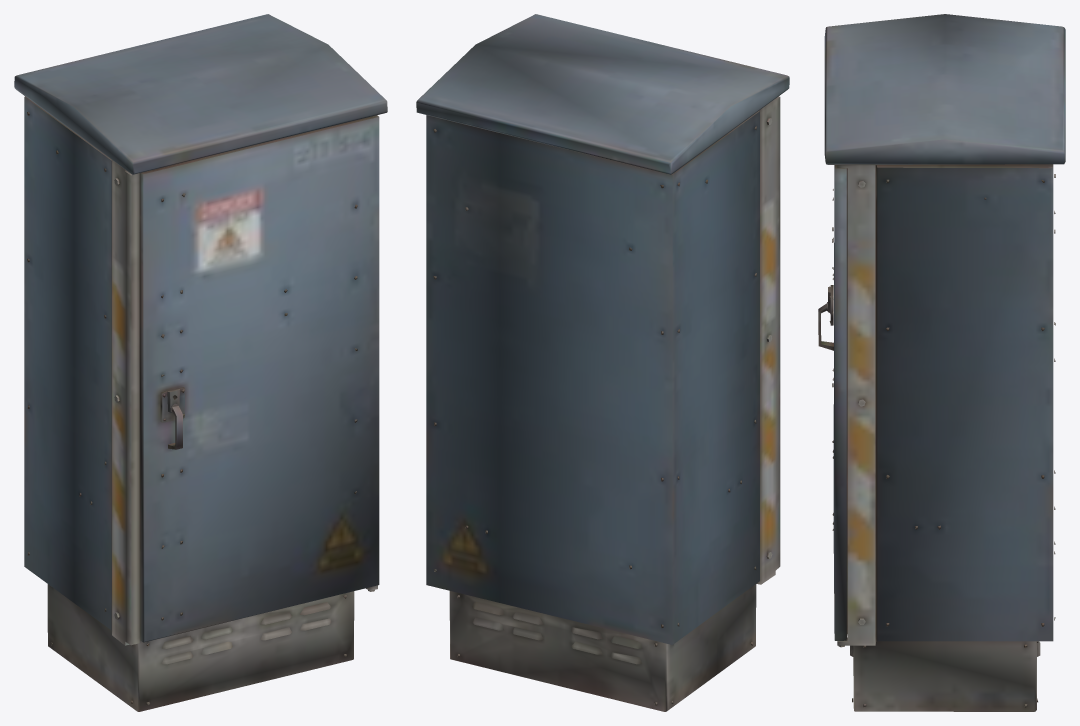
The model's file is coffret_technique_lod1.glb.
The picture shows the model from 3 angles, left to right: view 1: azimuth 30°, elevation 25°; view 2: azimuth 150°, elevation 25°; view 3: azimuth 270°, elevation 25°; orthographic projection.
Visible parts, largest first — view 1: utility_box_01_box; view 2: utility_box_01_box; view 3: utility_box_01_box.
Boxes of the visible parts, x1,y1,x2,y2 form: utility_box_01_box: [14, 14, 387, 711]; utility_box_01_box: [416, 14, 789, 711]; utility_box_01_box: [818, 14, 1065, 711].
Size of the model in its own units: 0.5182 by 1.12 by 0.4312.
1 material, 1 textured.
